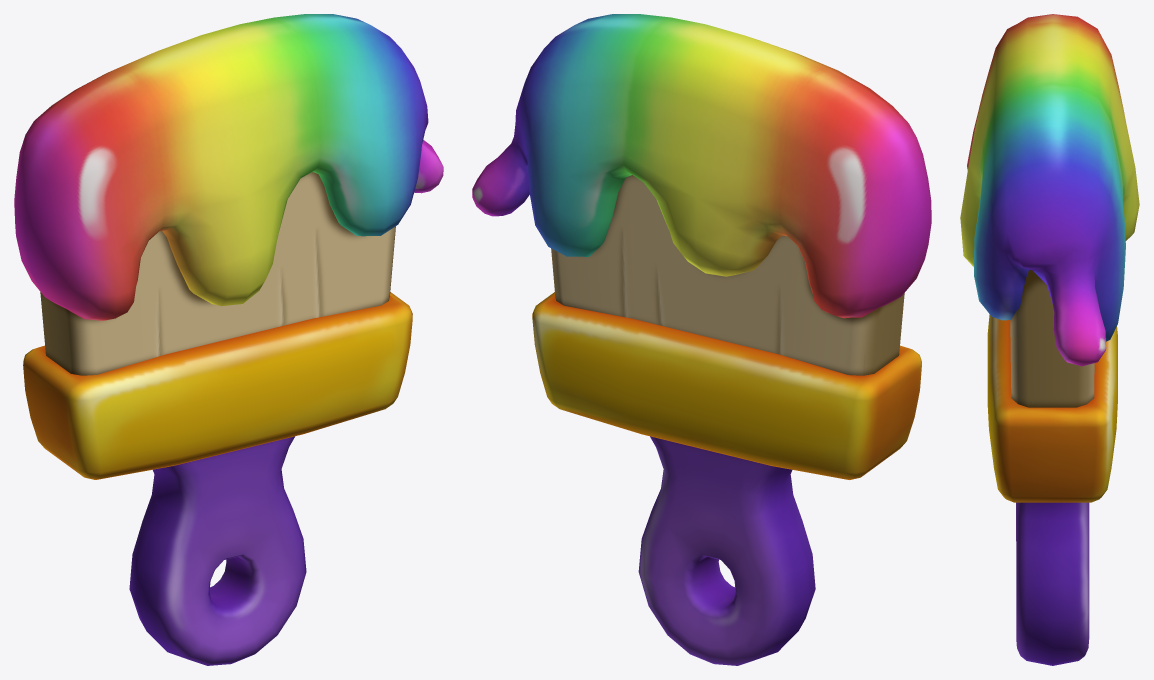
The model's file is Brush.fbx.
3 renders of one model, left to right at view 1: azimuth 30°, elevation 25°; view 2: azimuth 150°, elevation 25°; view 3: azimuth 270°, elevation 25°, orthographic.
Parts seen in each view (by area): view 1: Brush; view 2: Brush; view 3: Brush.
Boxes of the visible parts, box(x1,y1,x2,y2) form: Brush: box(14, 14, 443, 665); Brush: box(472, 14, 931, 665); Brush: box(960, 14, 1139, 665).
Bounding box in the file's own units: 88.29 × 122 × 32.53.
